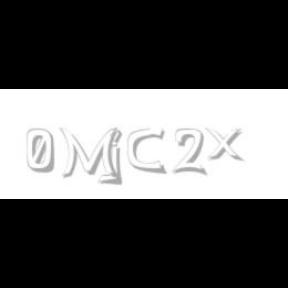0: (26, 128, 58, 174)
2: (171, 128, 205, 176)
C: (128, 128, 164, 174)
M: (60, 128, 119, 180)
j: (108, 128, 136, 186)
x: (205, 128, 247, 162)
